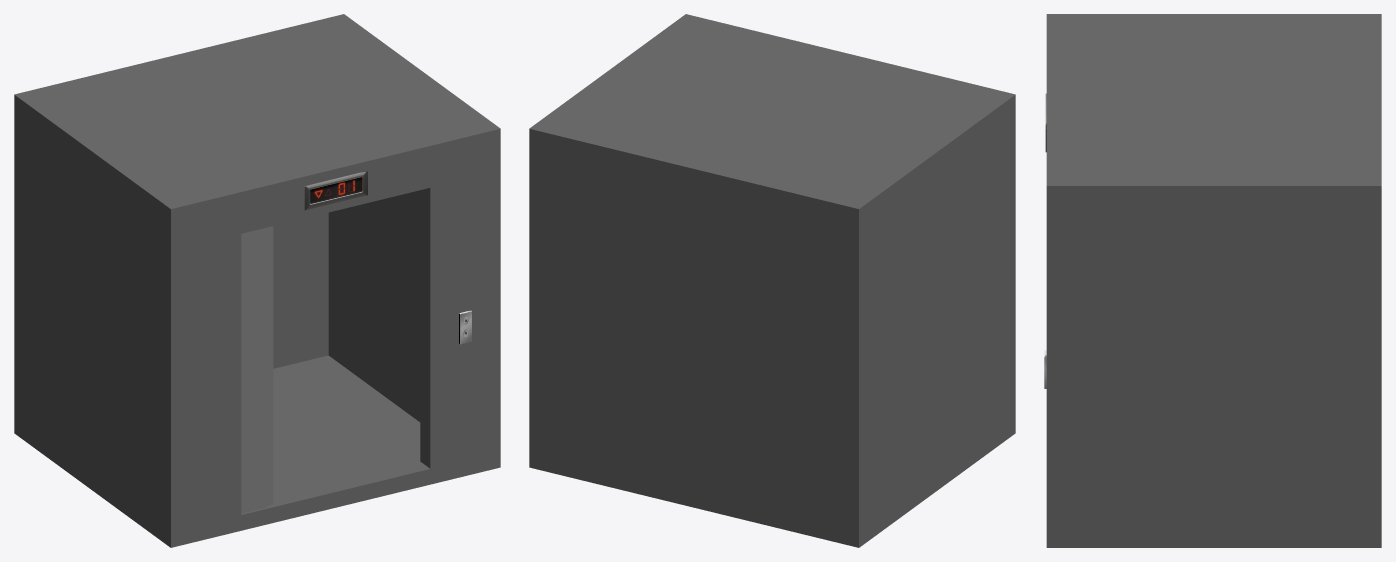
The model's file is ElevatorISOPENEDfbx.fbx.
3 views of the same model, side by side, from view 1: azimuth 30°, elevation 25°; view 2: azimuth 150°, elevation 25°; view 3: azimuth 270°, elevation 25° (orthographic). The views are drawn at different scales.
Visible parts, largest first — view 1: DoorOpened; view 2: DoorOpened; view 3: DoorOpened.
Boxes of the visible parts, x1=… form: DoorOpened: x1=14, y1=14, x2=500, y2=547; DoorOpened: x1=529, y1=14, x2=1015, y2=547; DoorOpened: x1=1044, y1=14, x2=1381, y2=547.
Bounding box in the file's own units: 690 × 677 × 572.
5 materials, 2 textured.
